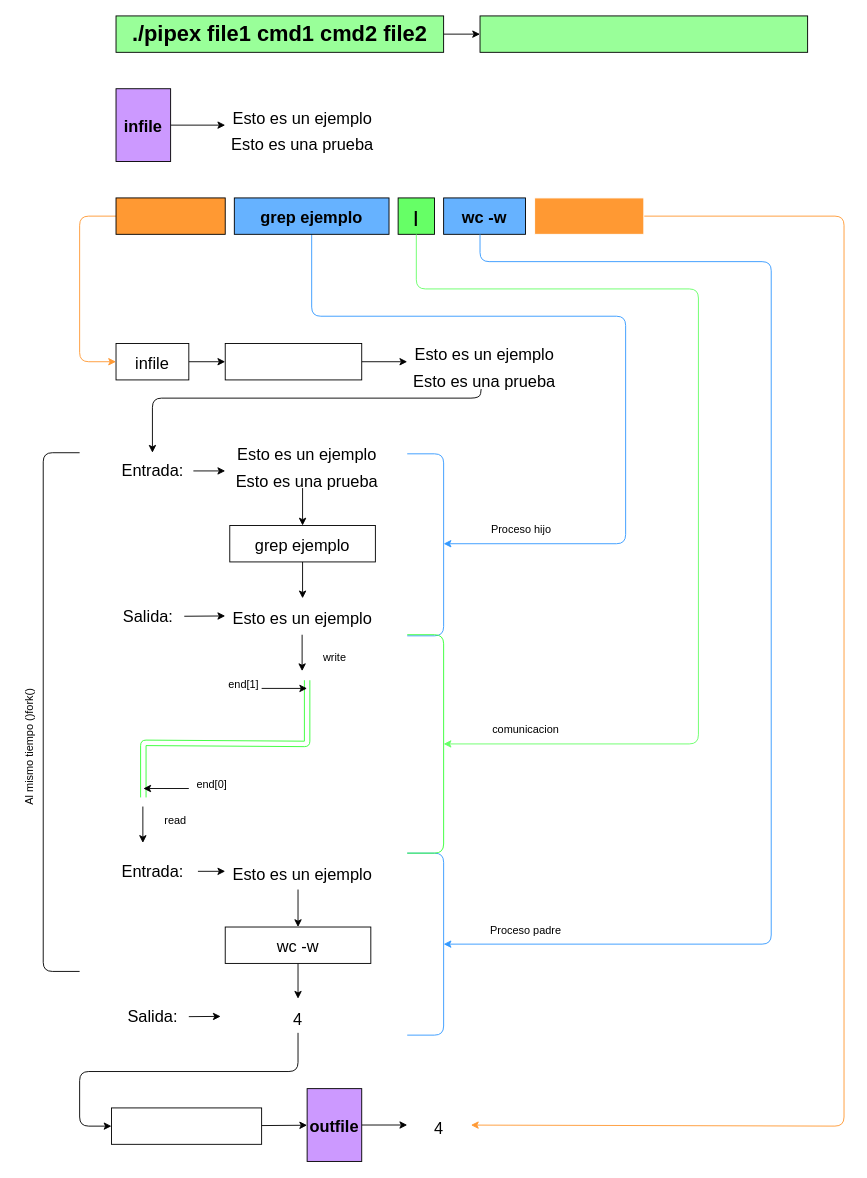
This 867x1178 diagram has some shape labels left out. The box of each missing label's shape, as (x1, y1, x2, y2) in pixels:
< file1 cmd1 | cmd2 > file2: (479, 15, 808, 52)
< infile: (115, 197, 225, 234)
> outfile: (534, 197, 644, 234)
entrada estandar: (224, 343, 362, 380)
salida estandar: (111, 1107, 262, 1144)
